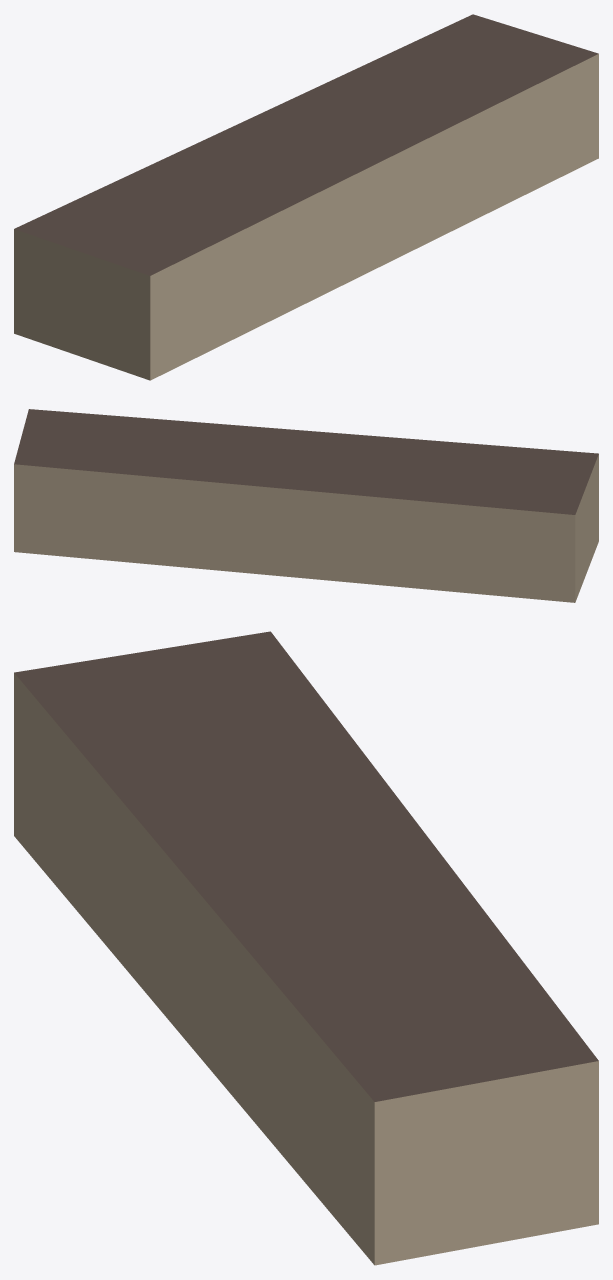
3 renders of one model, top to bottom at view 1: azimuth 30°, elevation 25°; view 2: azimuth 150°, elevation 25°; view 3: azimuth 270°, elevation 25°, orthographic. The views are drawn at different scales.
Visible parts, largest first — view 1: HP-w1512914136; view 2: HP-w1512914136; view 3: HP-w1512914136.
Part boxes in pixels (x1,y1,x2,y2): HP-w1512914136: (14, 14, 598, 380); HP-w1512914136: (14, 409, 598, 602); HP-w1512914136: (14, 631, 598, 1265).
Bounding box in the file's own units: 55.61 × 9 × 29.2.
